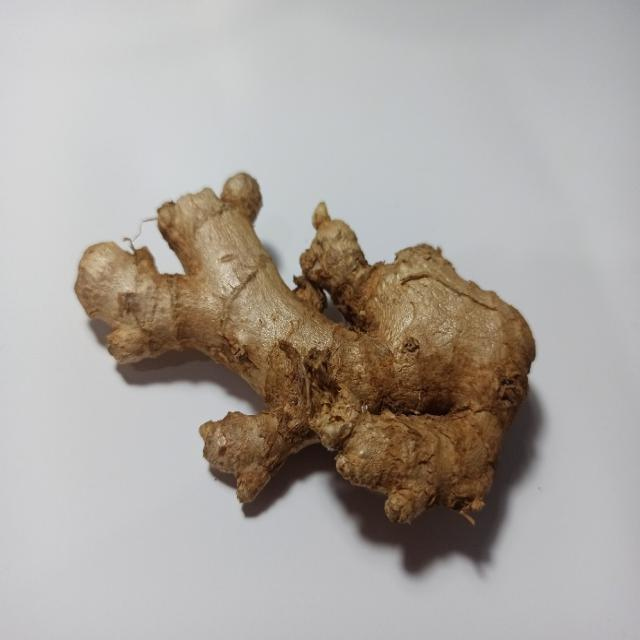ginger: (74, 173, 536, 530)
